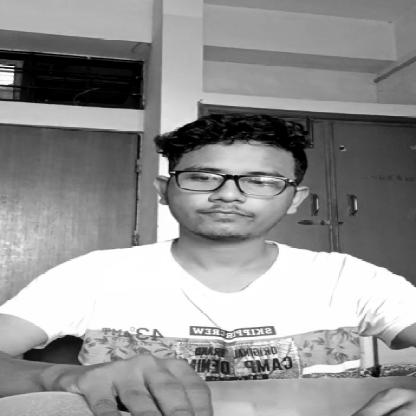Normal: (147, 115, 312, 236)
